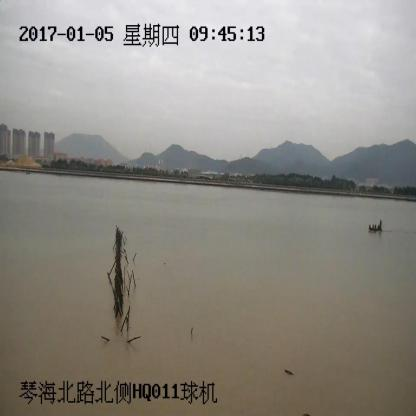Fishing Boat: (367, 218, 384, 233)
